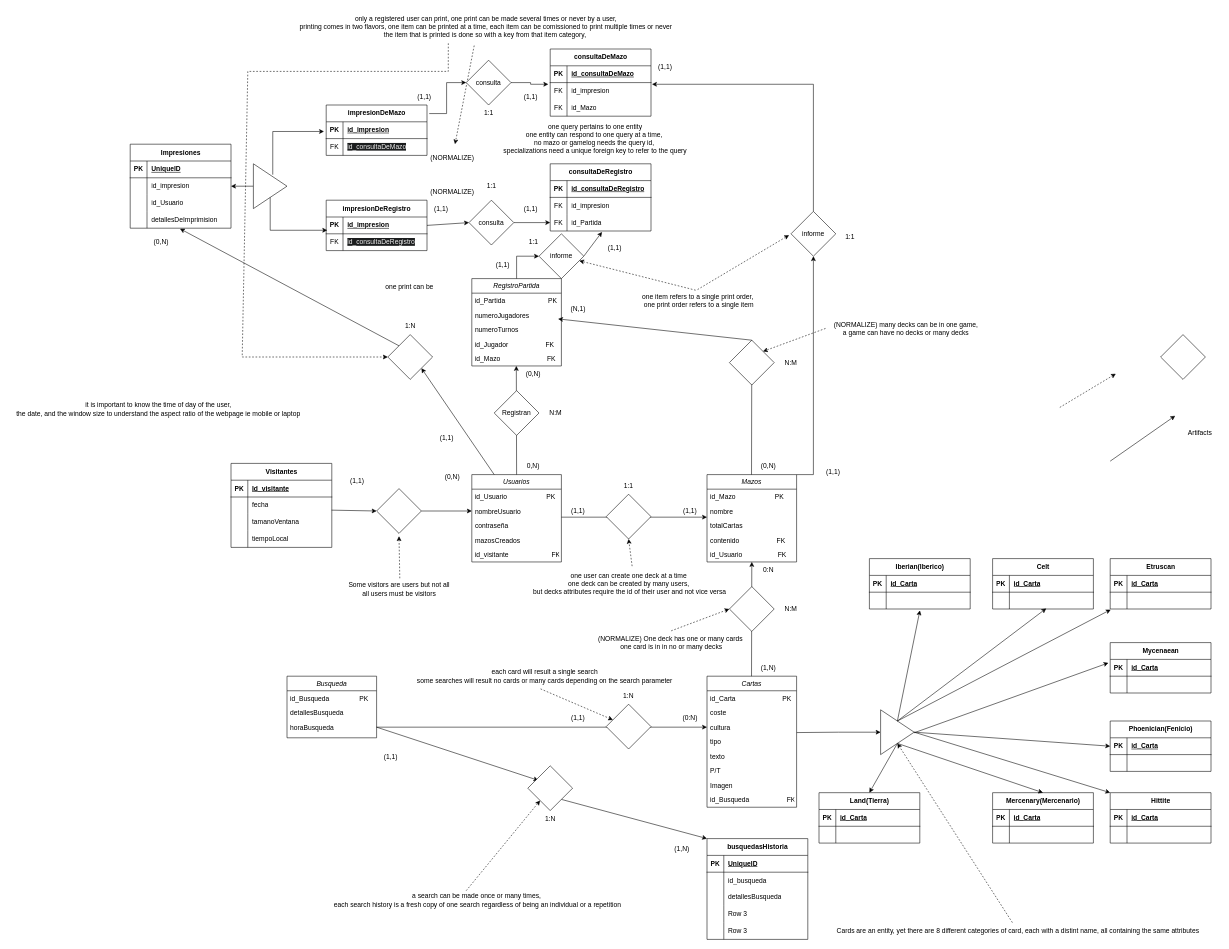
The diagram is 1229 pixels wide and 949 high, and some of its shapes have lost their labels. The centre of each missing label's shape, as x and y in pixels:
Aparecen en: point (628, 726)
Contienen: point (751, 608)
Crean: point (628, 516)
Imprime: point (410, 356)
pertenece: point (550, 788)
se registra: point (398, 510)
son guardados en: point (751, 362)
